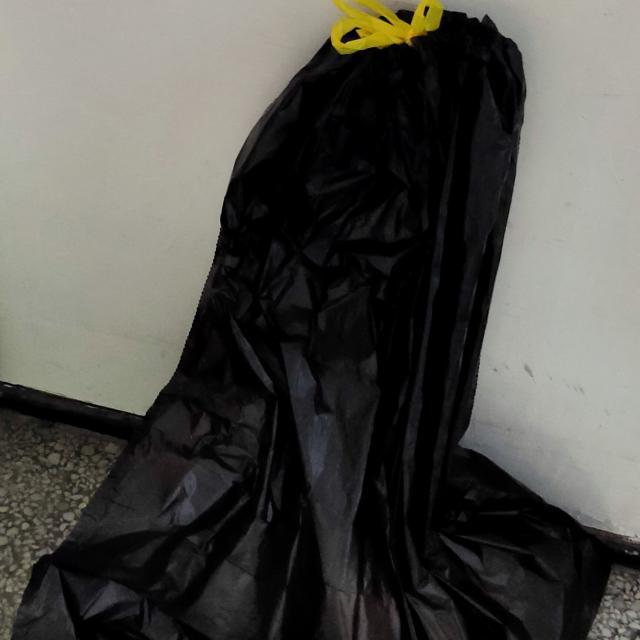Trashbag: (10, 5, 620, 640)
